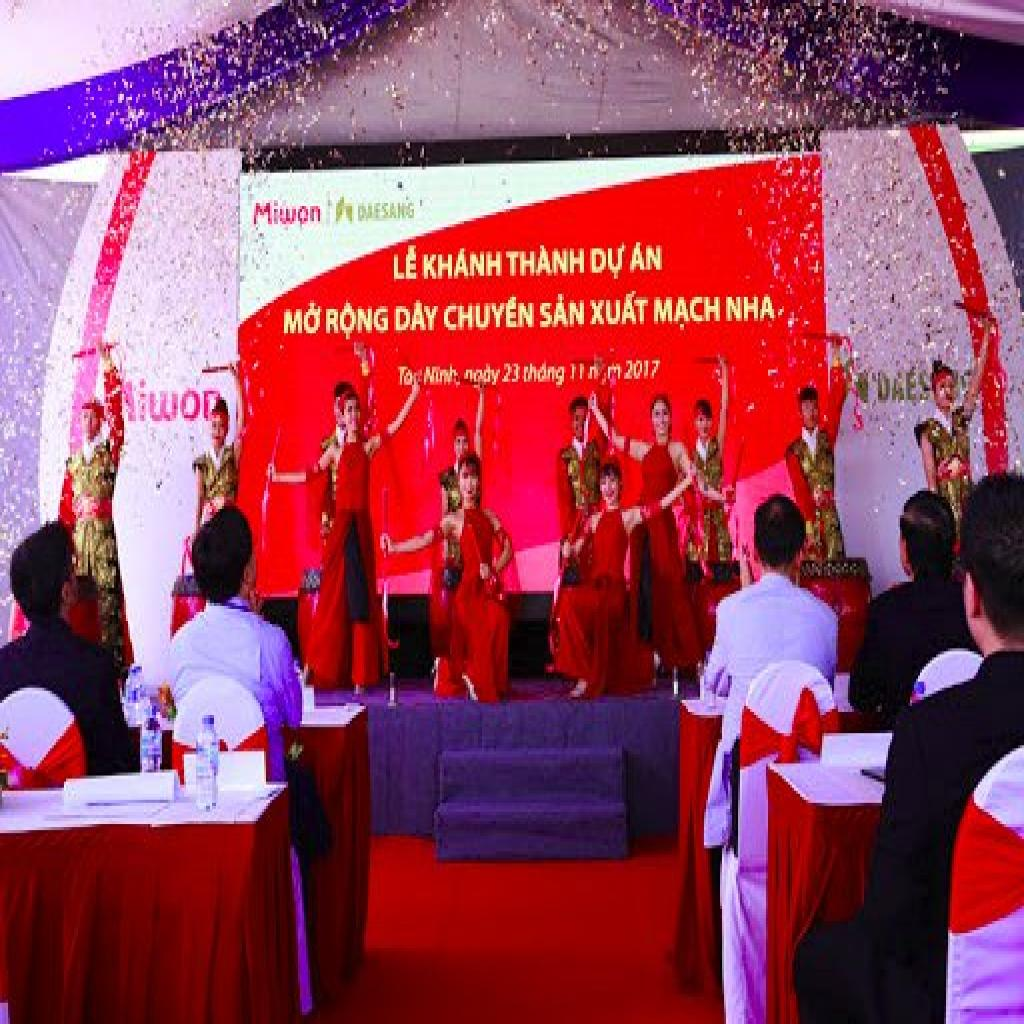text: (444, 294, 536, 336), (136, 379, 204, 430), (324, 297, 390, 348), (504, 242, 588, 282), (652, 291, 724, 333), (424, 245, 504, 282), (250, 194, 324, 233), (590, 288, 648, 333), (538, 291, 588, 336), (392, 297, 440, 336), (354, 197, 416, 227), (588, 239, 628, 285), (282, 300, 324, 342), (724, 291, 776, 324), (388, 239, 422, 285), (522, 357, 568, 391), (628, 236, 664, 276), (422, 357, 460, 388), (622, 357, 664, 385), (462, 363, 500, 391), (500, 360, 520, 388), (398, 360, 416, 391), (568, 360, 586, 384), (604, 360, 622, 384), (588, 360, 600, 382)
